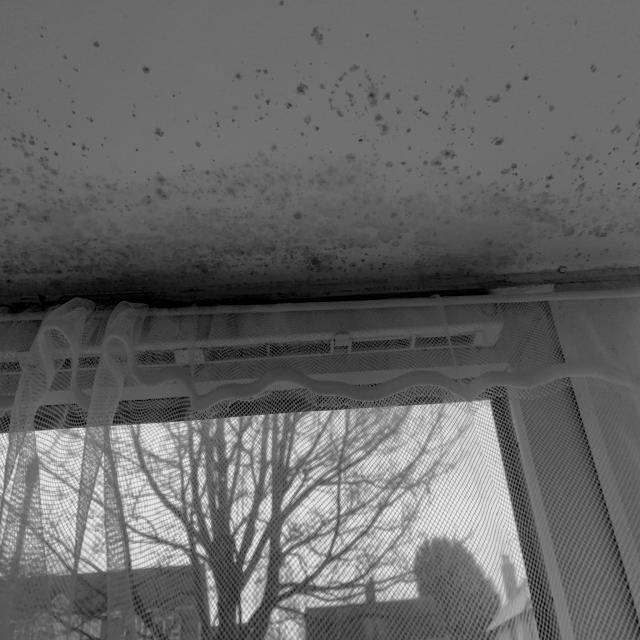stain marks: (0, 0, 640, 294)
